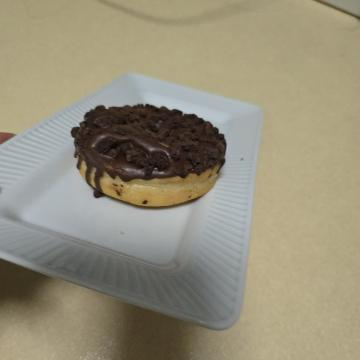doughnut: (88, 122, 216, 303)
